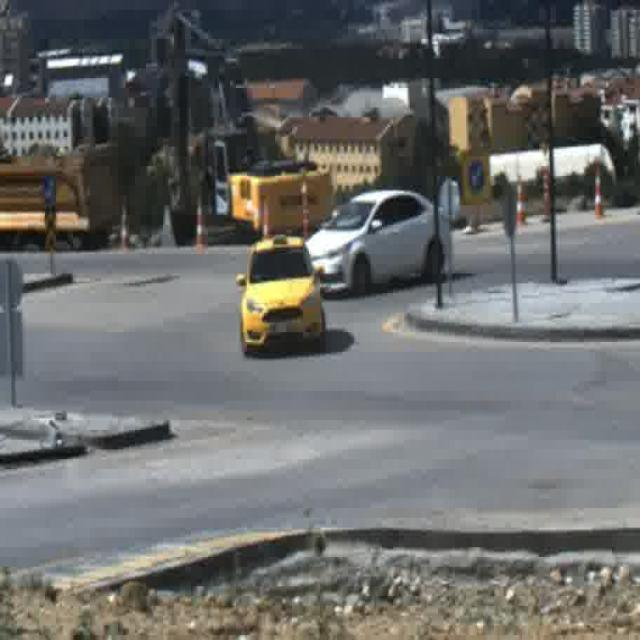Car: (306, 190, 448, 289), (241, 234, 323, 356)
